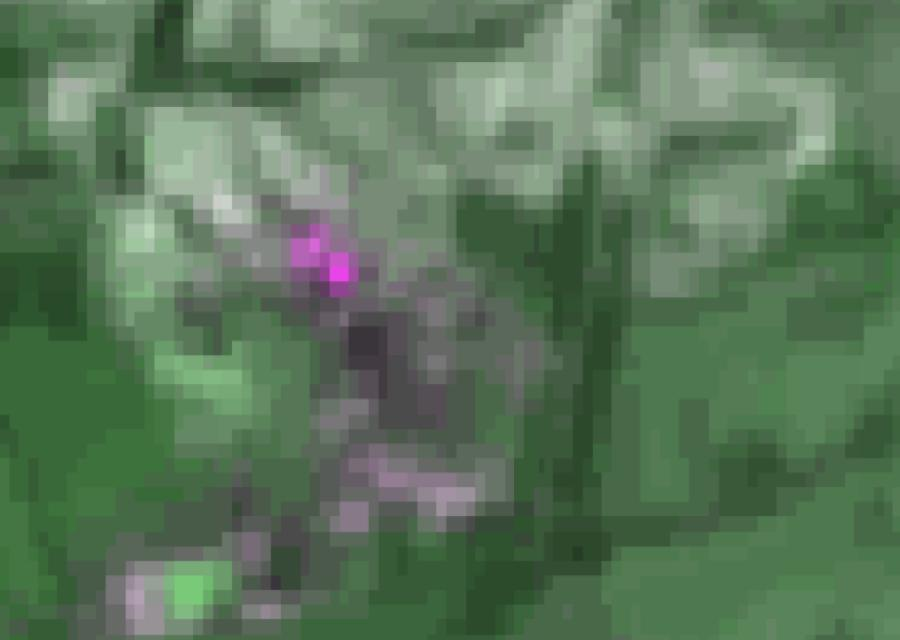Potential Lime Manufacturing Facility: (301, 236, 352, 284)
